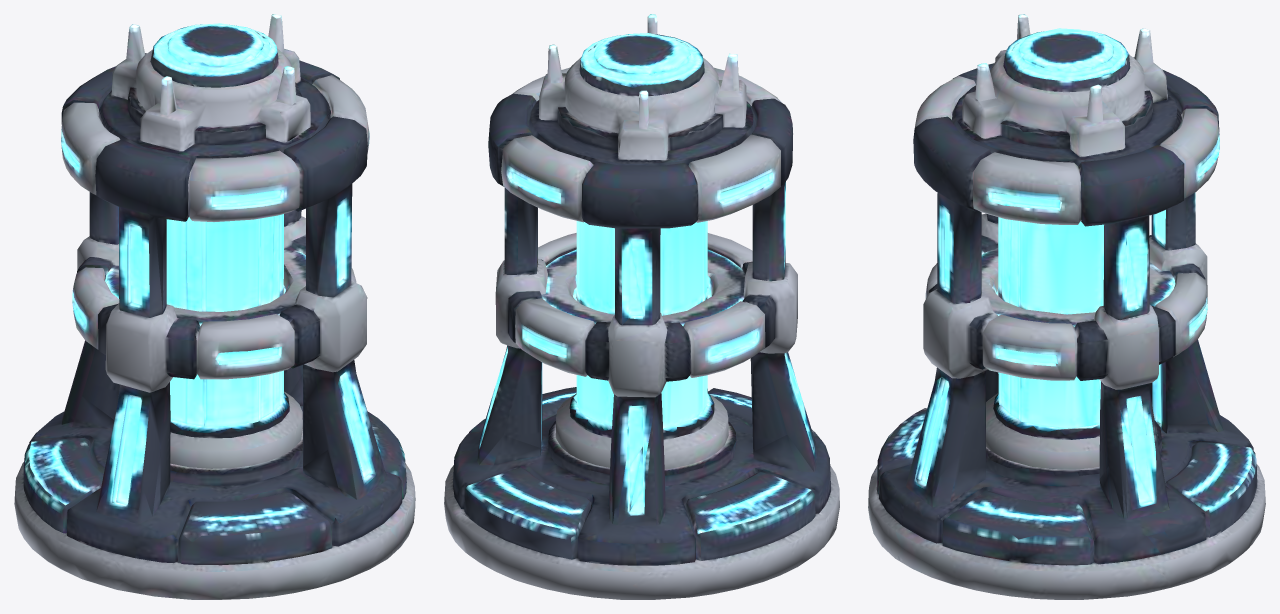
File: warrior-2-tier-2.glb
3 views of the same model, side by side, from view 1: azimuth 30°, elevation 25°; view 2: azimuth 150°, elevation 25°; view 3: azimuth 270°, elevation 25° (orthographic).
Visible parts, largest first — view 1: moving-assembly, fixed-platform; view 2: moving-assembly, fixed-platform; view 3: moving-assembly, fixed-platform.
Part boxes in pixels (x1,y1,x2,y2): moving-assembly: (61, 14, 384, 516); fixed-platform: (14, 374, 415, 599); moving-assembly: (479, 14, 814, 523); fixed-platform: (444, 387, 839, 599); moving-assembly: (913, 14, 1223, 517); fixed-platform: (868, 376, 1265, 599).
Size of the model in its own units: 0.8283 by 1.08 by 0.8279.
Materials: 1 (1 with a texture image).
